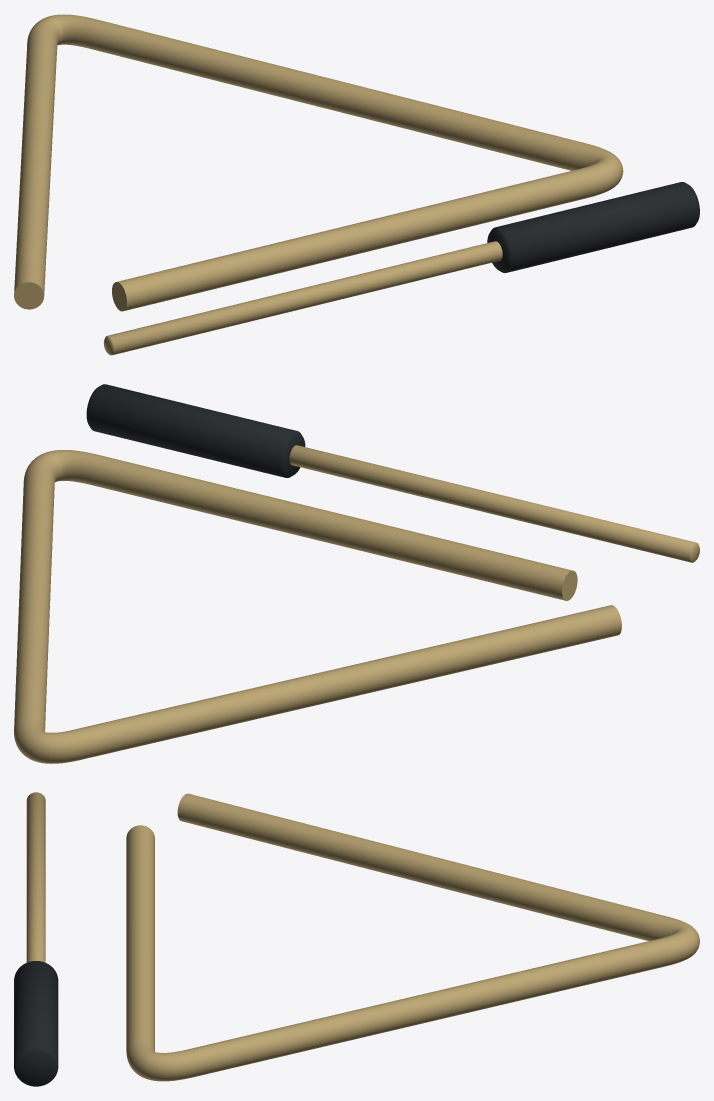
The picture shows the model from 3 angles, top to bottom: view 1: azimuth 30°, elevation 25°; view 2: azimuth 150°, elevation 25°; view 3: azimuth 270°, elevation 25°; orthographic projection. The views are drawn at different scales.
Visible parts, largest first — view 1: Whole open-corner rounded triangle rod, Seated plain black beater grip, Whole original beater metal shaft; view 2: Whole open-corner rounded triangle rod, Seated plain black beater grip, Whole original beater metal shaft; view 3: Whole open-corner rounded triangle rod, Seated plain black beater grip, Whole original beater metal shaft.
Boxes of the visible parts, <box> form: Whole open-corner rounded triangle rod: <box>14,14,623,311</box>; Seated plain black beater grip: <box>487,182,699,272</box>; Whole original beater metal shaft: <box>103,241,502,355</box>; Whole open-corner rounded triangle rod: <box>14,450,621,763</box>; Seated plain black beater grip: <box>86,384,305,477</box>; Whole original beater metal shaft: <box>289,445,699,562</box>; Whole open-corner rounded triangle rod: <box>126,793,699,1081</box>; Seated plain black beater grip: <box>14,961,58,1086</box>; Whole original beater metal shaft: <box>26,792,45,962</box>.
Size of the model in its own units: 0.2038 by 0.014 by 0.2166.
